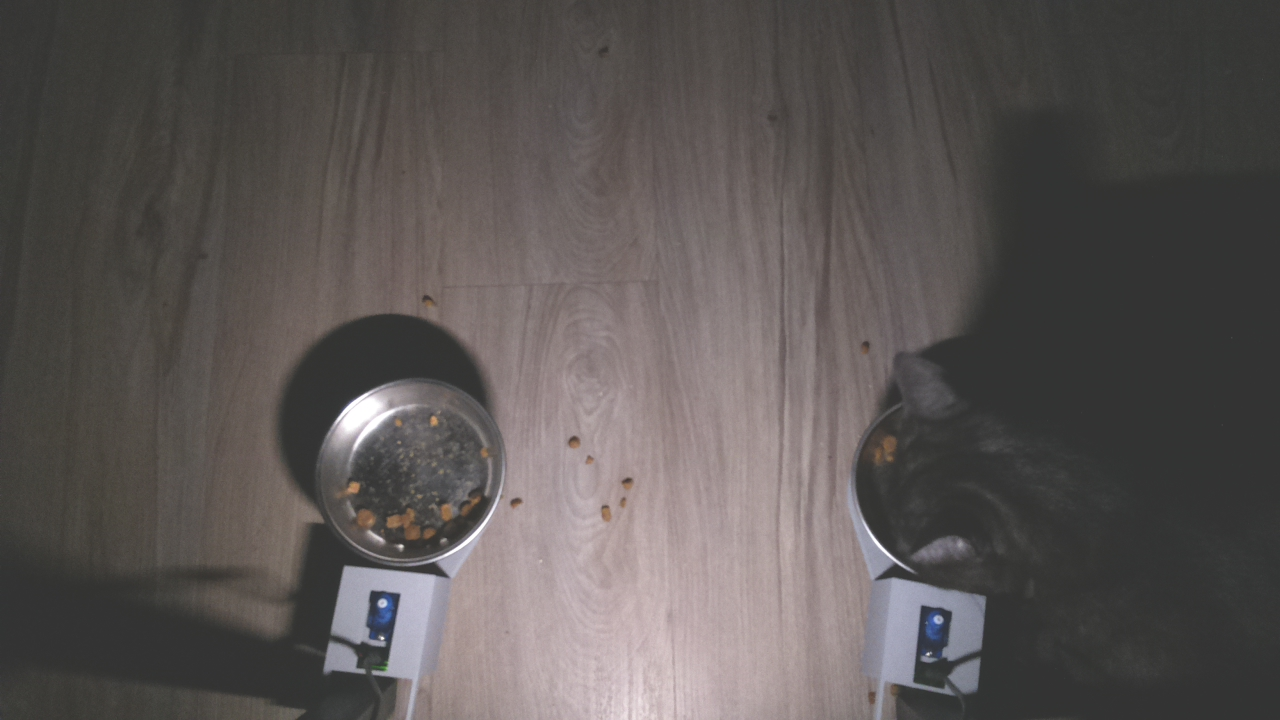open_bowl: (309, 372, 509, 572)
saki_eating: (849, 346, 1072, 611)
